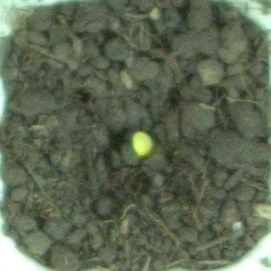chilli seed: (129, 127, 158, 159)
